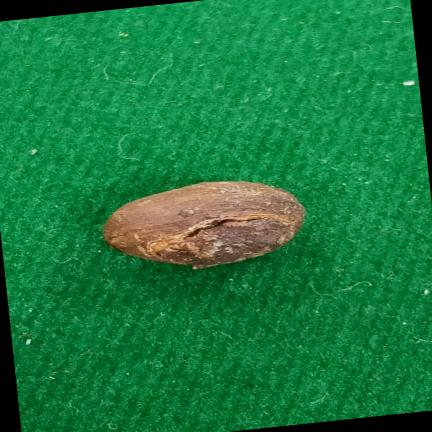husk: (103, 181, 305, 269)
